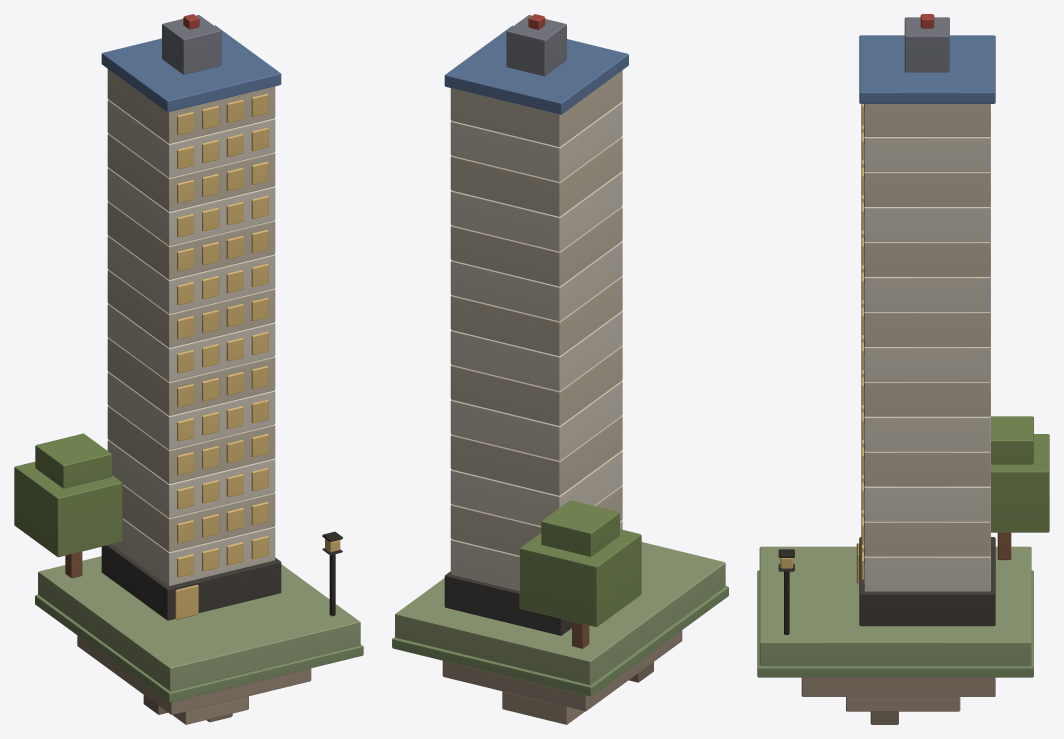
Rendered from region_14.glb.
The picture shows the model from 3 angles, left to right: view 1: azimuth 30°, elevation 25°; view 2: azimuth 150°, elevation 25°; view 3: azimuth 270°, elevation 25°; orthographic projection. The views are drawn at different scales.
Visible parts, largest first — view 1: region_14_static, region_14_glow; view 2: region_14_static; view 3: region_14_static, region_14_glow.
Part boxes in pixels (bbox=[...]): region_14_static: bbox=[14, 15, 363, 724]; region_14_glow: bbox=[175, 93, 340, 619]; region_14_static: bbox=[392, 15, 728, 724]; region_14_static: bbox=[757, 17, 1049, 724]; region_14_glow: bbox=[780, 104, 863, 583].
Bounding box in the file's own units: 5.44 × 17.08 × 6.44.
